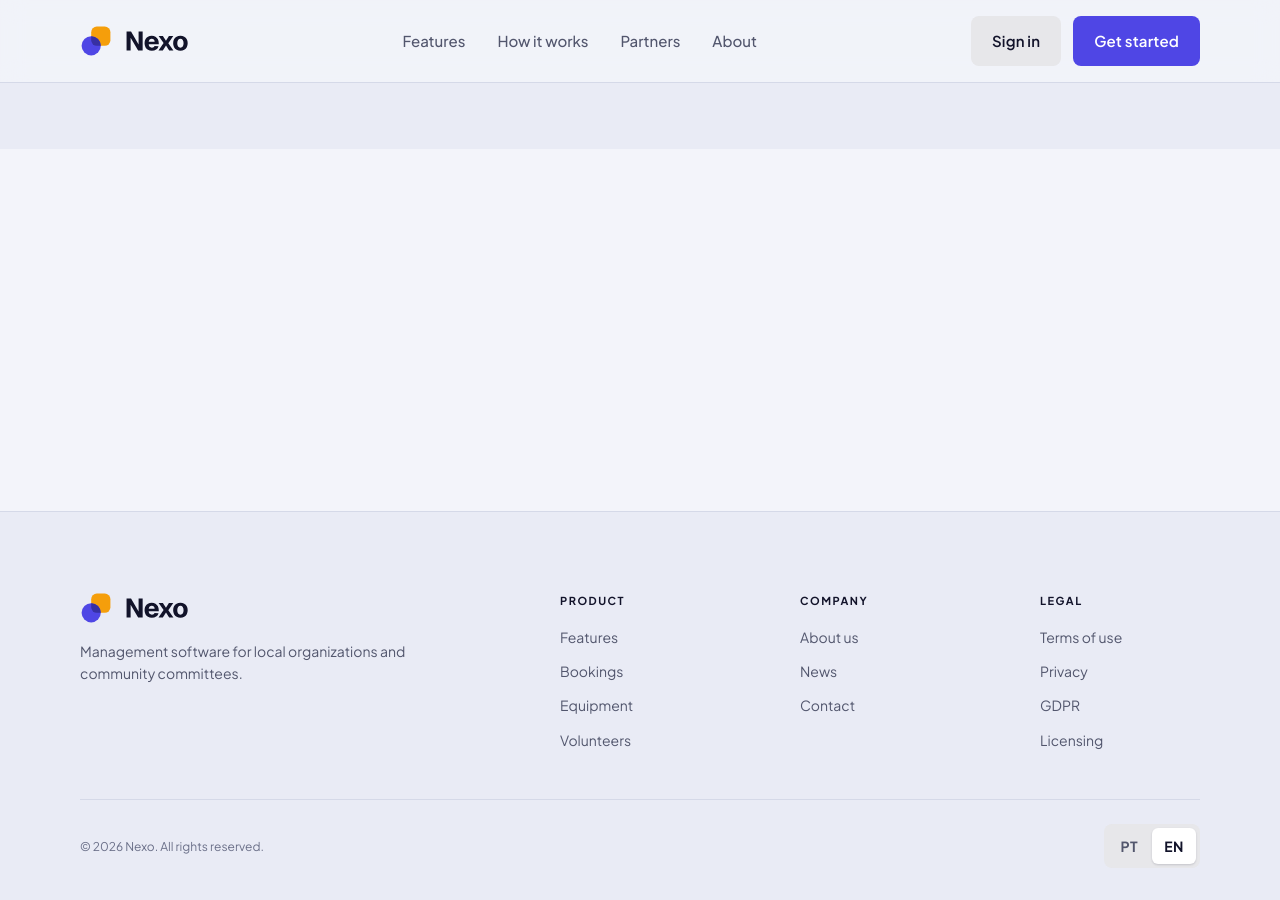
Scenario: Preferences › when the language is switched to Portuguese, then the page copy and <html lang> change and the choice is saved
The width and height of the screenshot is (1280, 900).
(page scrolled)
Click the button "PT": (1129, 846) [1108,828,1150,864]
(page scrolled)
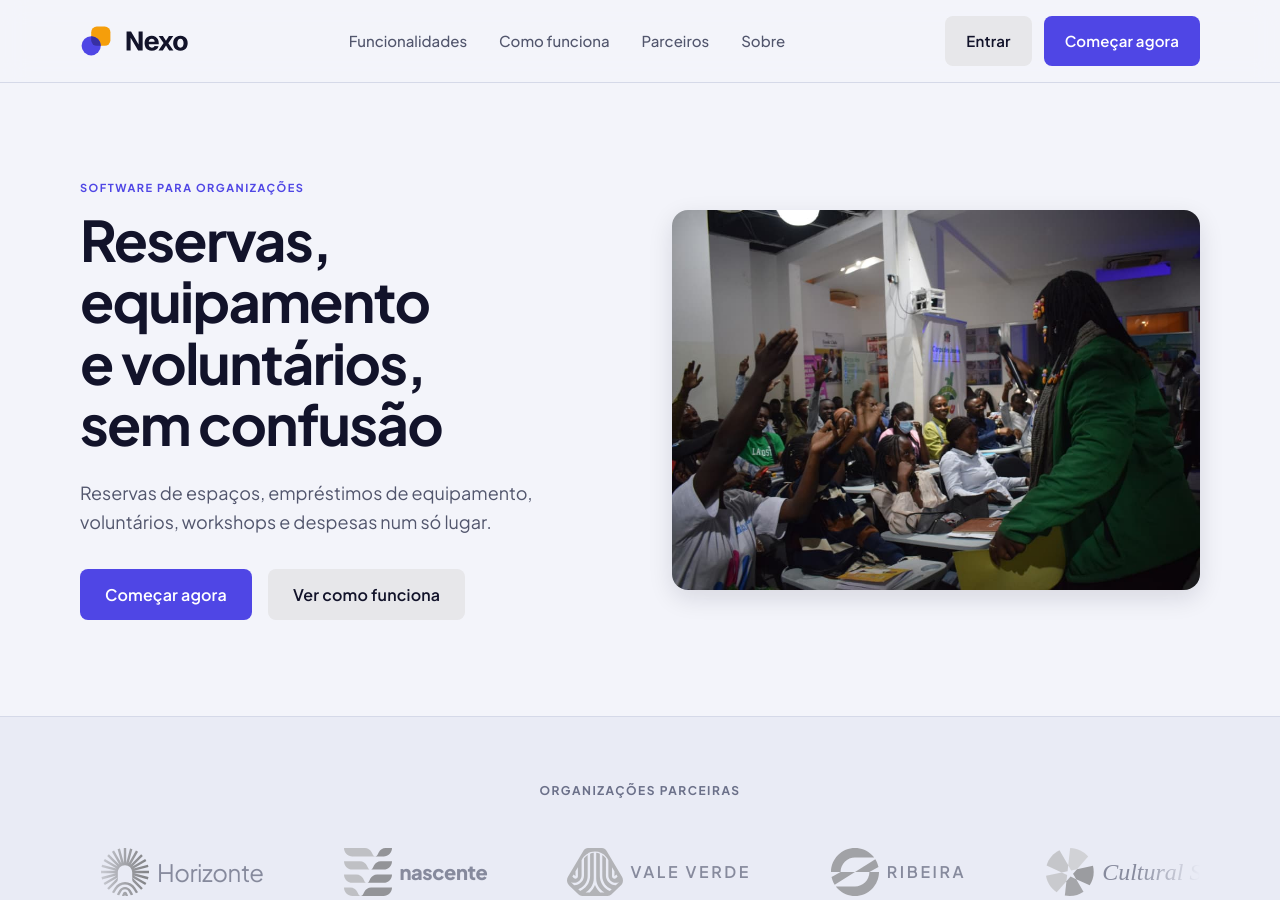
expect the heading reads "Reservas, equipamento e voluntários, sem confusão": met, box [80,204,442,458]
